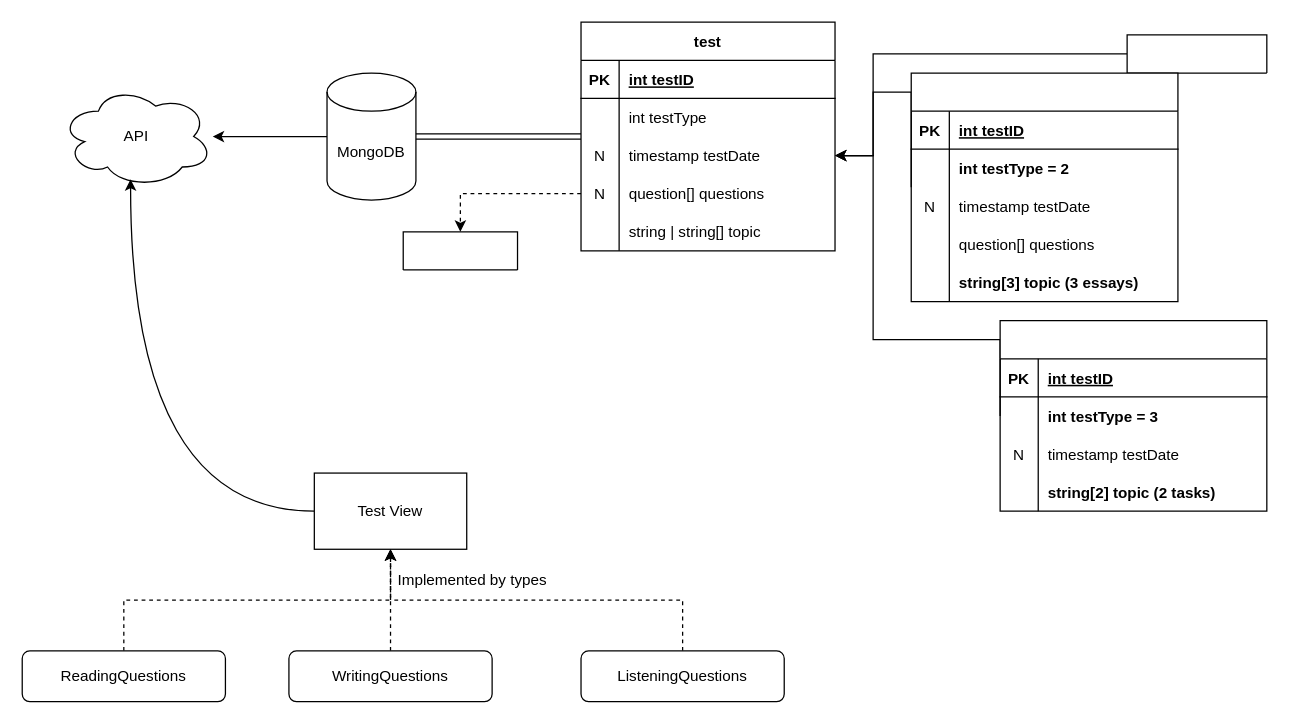
Image size: 1289x724. Some labels were removed from this diagram. The shapes that lost their labels are listed below. From the top down, each one's box as (x1, y1, x2, y2) in pixels, then its label:
(1126, 34, 1267, 73): listeningTest
(910, 72, 1178, 302): readingTest
(402, 231, 518, 270): question
(999, 319, 1267, 511): writingTest
